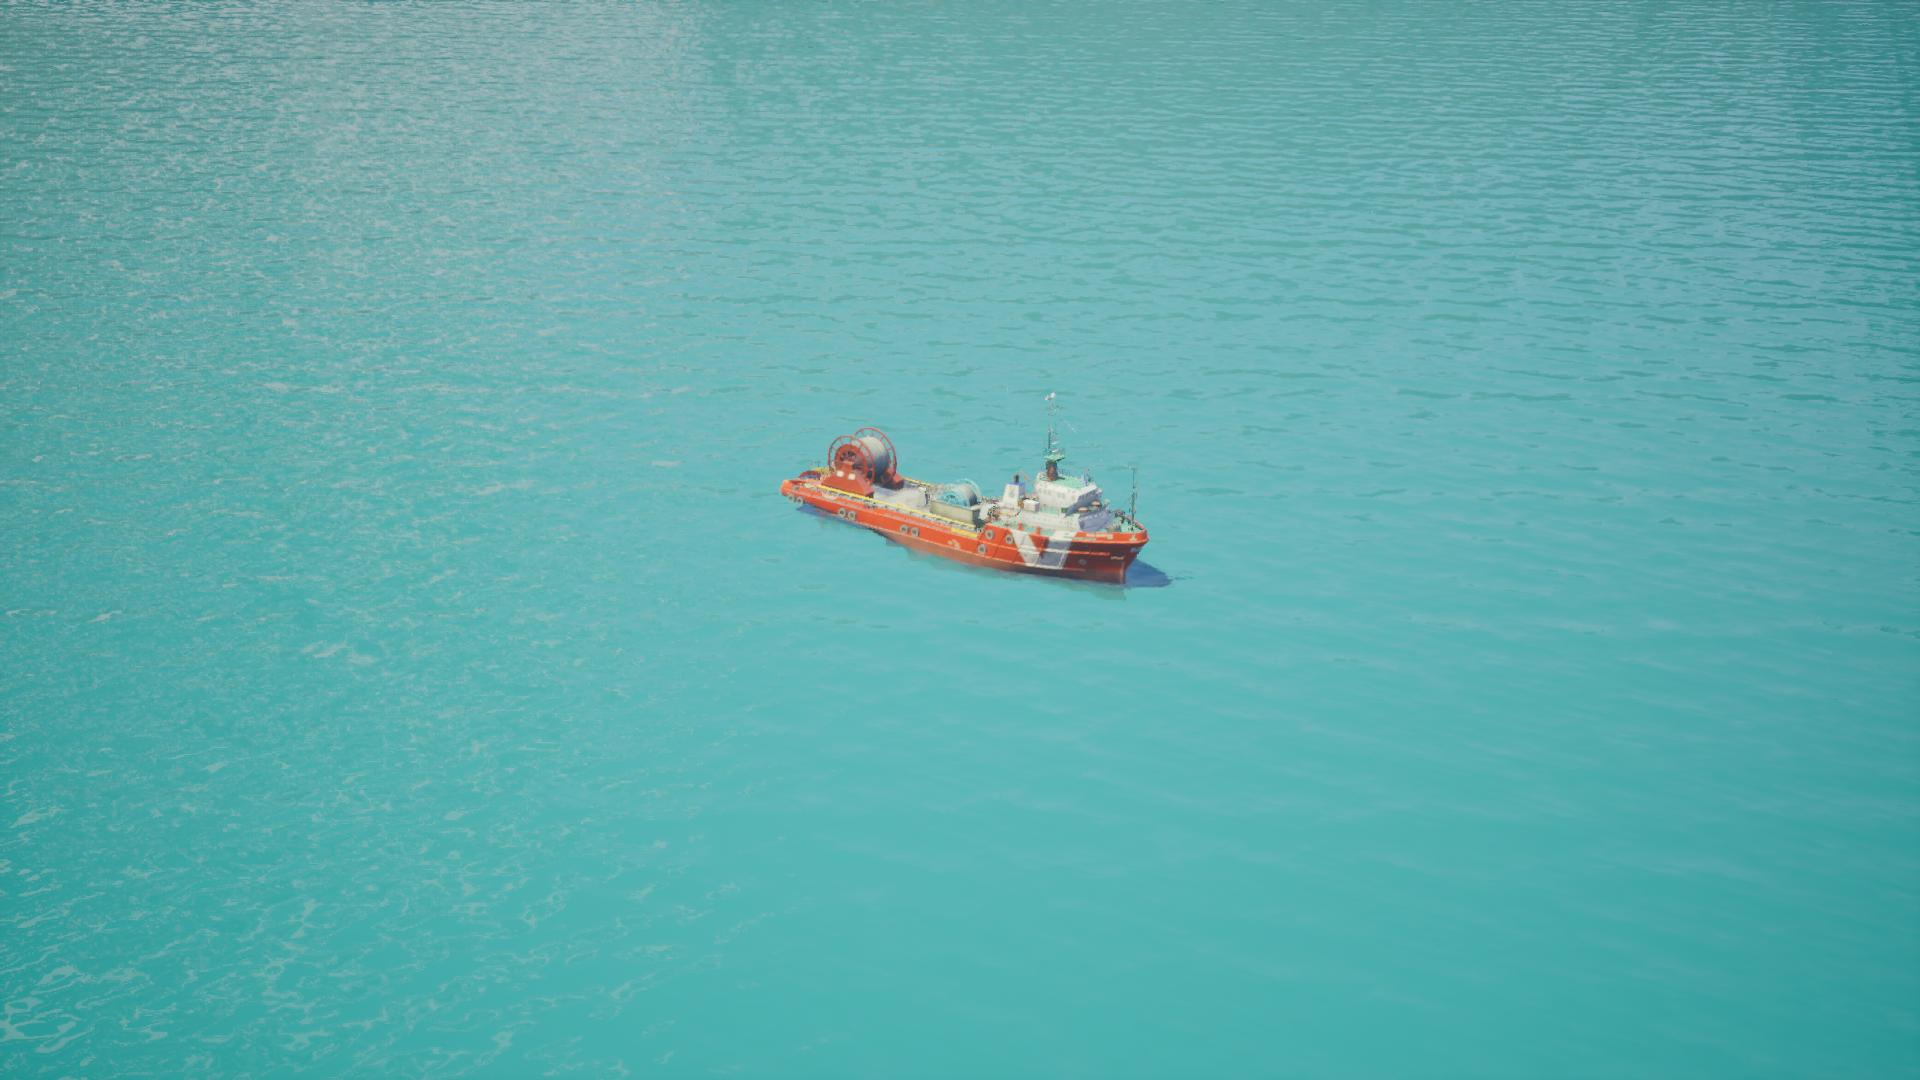Tug Boat: (781, 429, 1167, 592)
